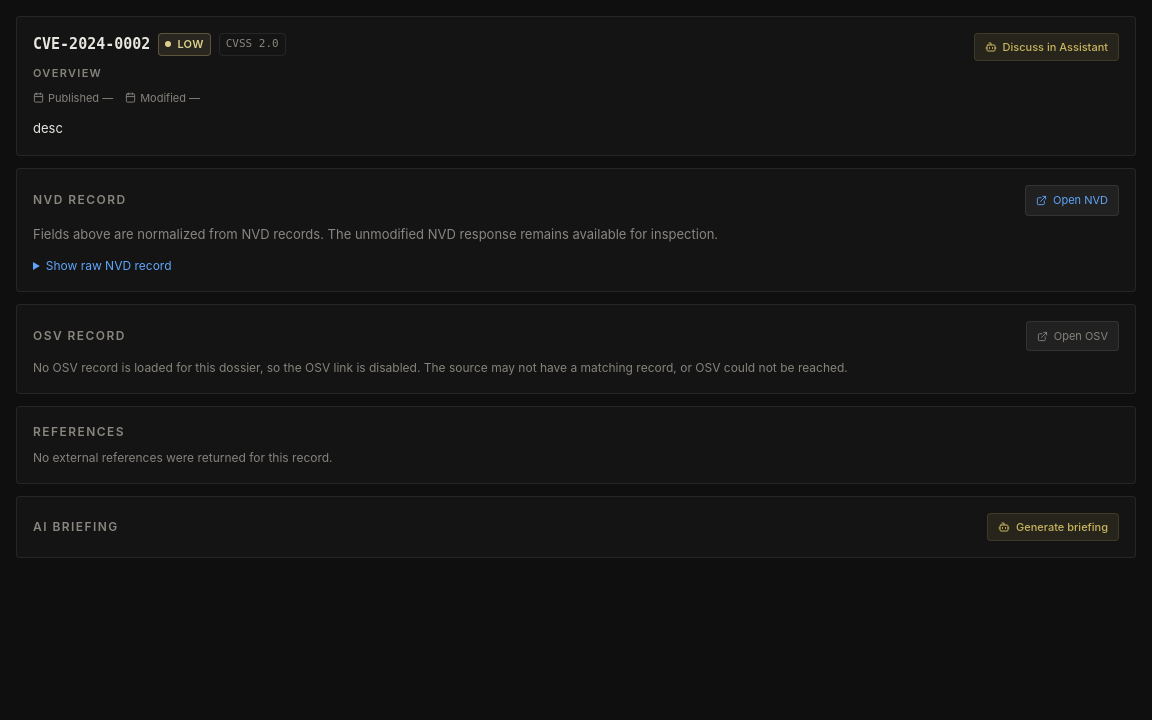
it: a structured briefing failure shows its message
Click the button "Generate briefing": [1053, 527] box [987,513,1119,541]
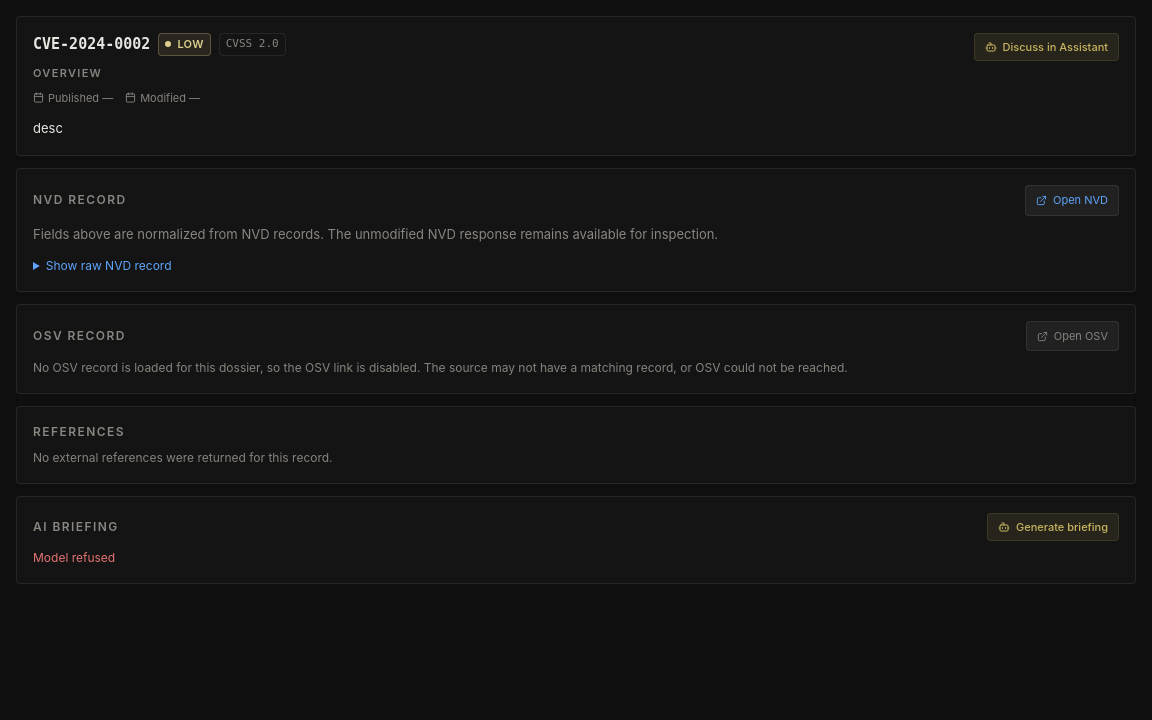
expect the text "Model refused" is shown: met, box [33,550,115,565]
